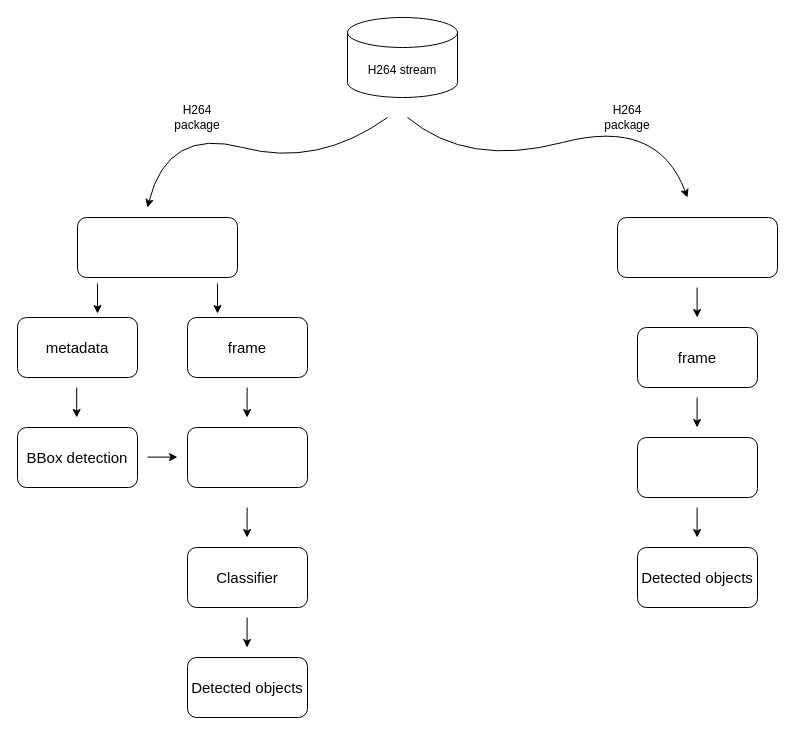
Image size: 795x735. Some labels were removed from this diagram. The shapes that lost their labels are listed below. From the top down, each one's centre as x and y in pixels, then its label:
At pixel 157 247: "FFMPEG-based Atins decoder".
At pixel 697 247: "FFMPEG-based decoder".
At pixel 247 457: "queue of cropped regions".
At pixel 697 467: "YOLOv4".
